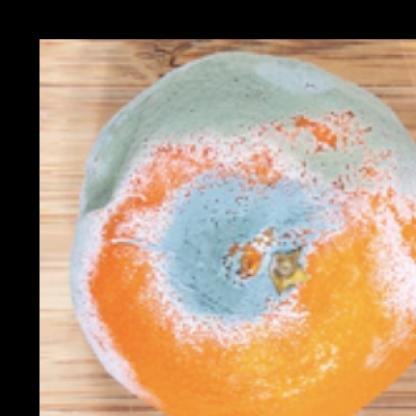rotten: (72, 50, 416, 416)
